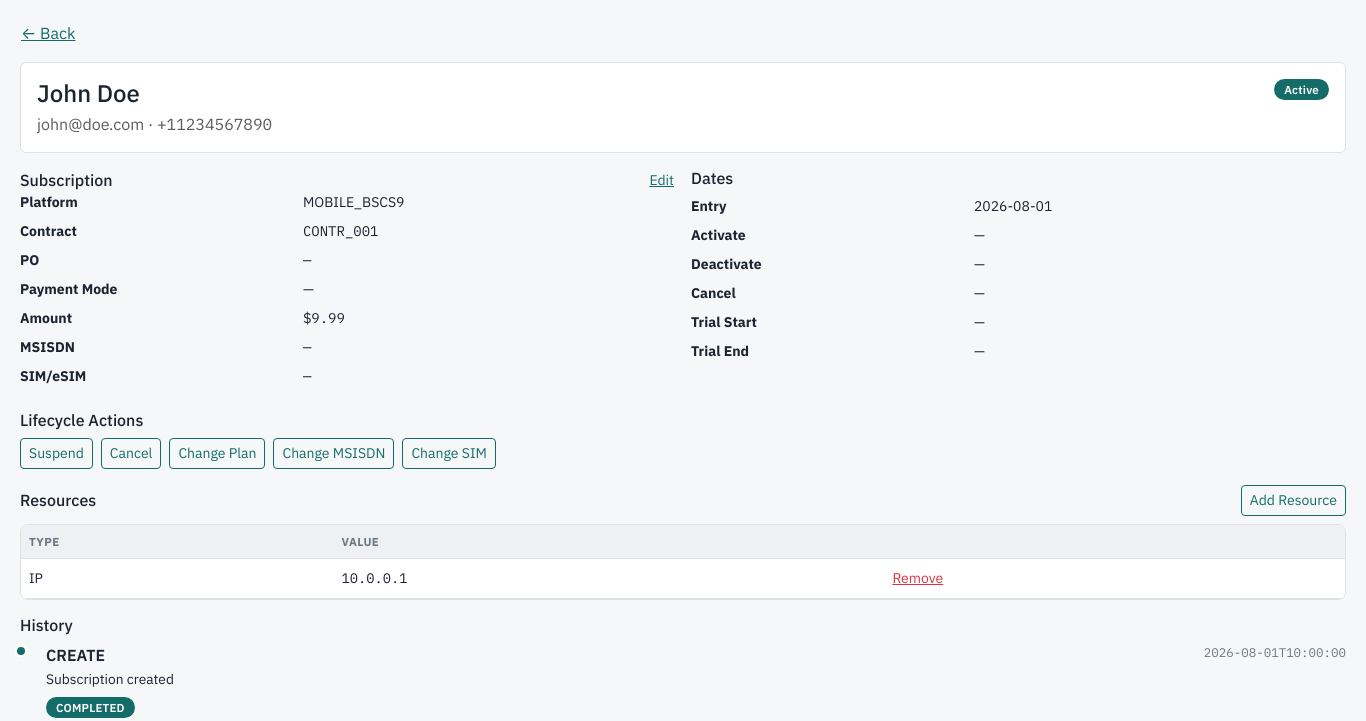
Test case: a rejected action shows its error without changing the displayed data
This screenshot has width=1366, height=721.
expect the heading "John Doe" is shown: met, box left=37, top=77, right=140, bottom=109
Click the button "Change MSISDN". click: (334, 454)
box: left=274, top=438, right=394, bottom=469
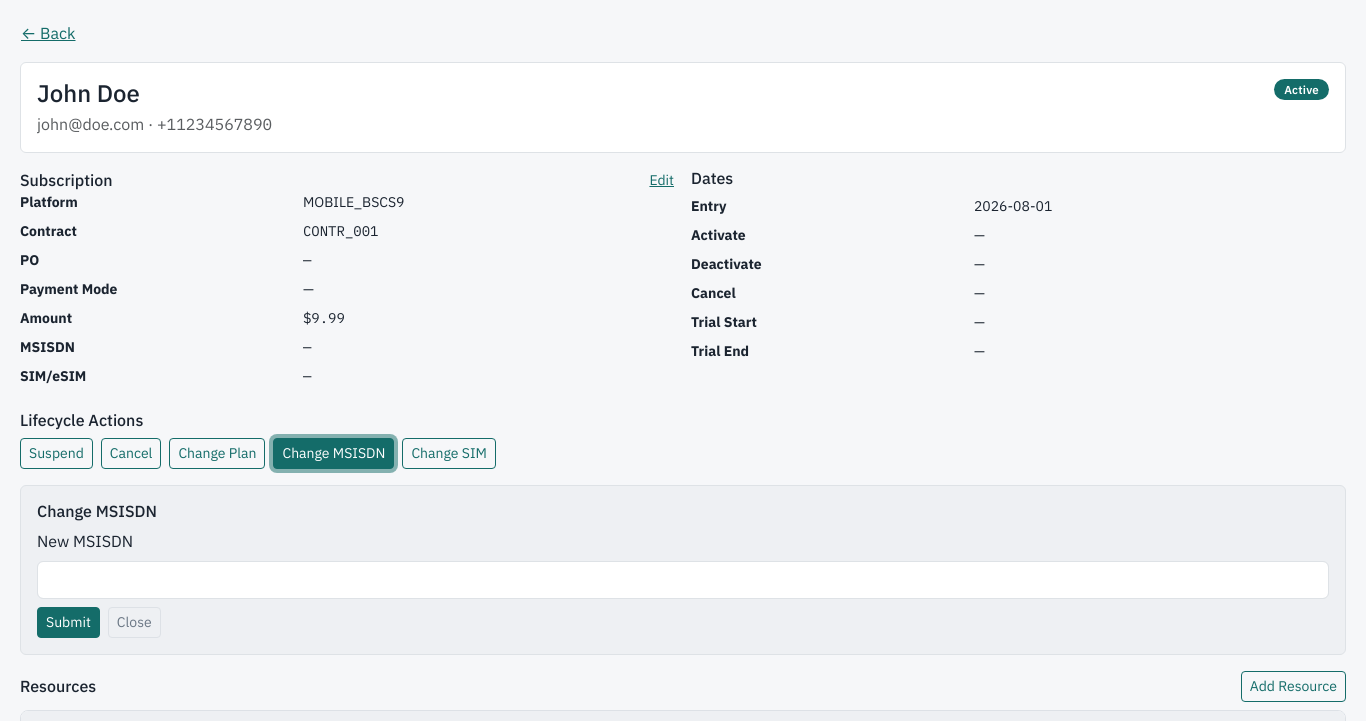
Type "not-a-number" into the field labelled "New MSISDN". click: (683, 580)
box: left=37, top=561, right=1329, bottom=599
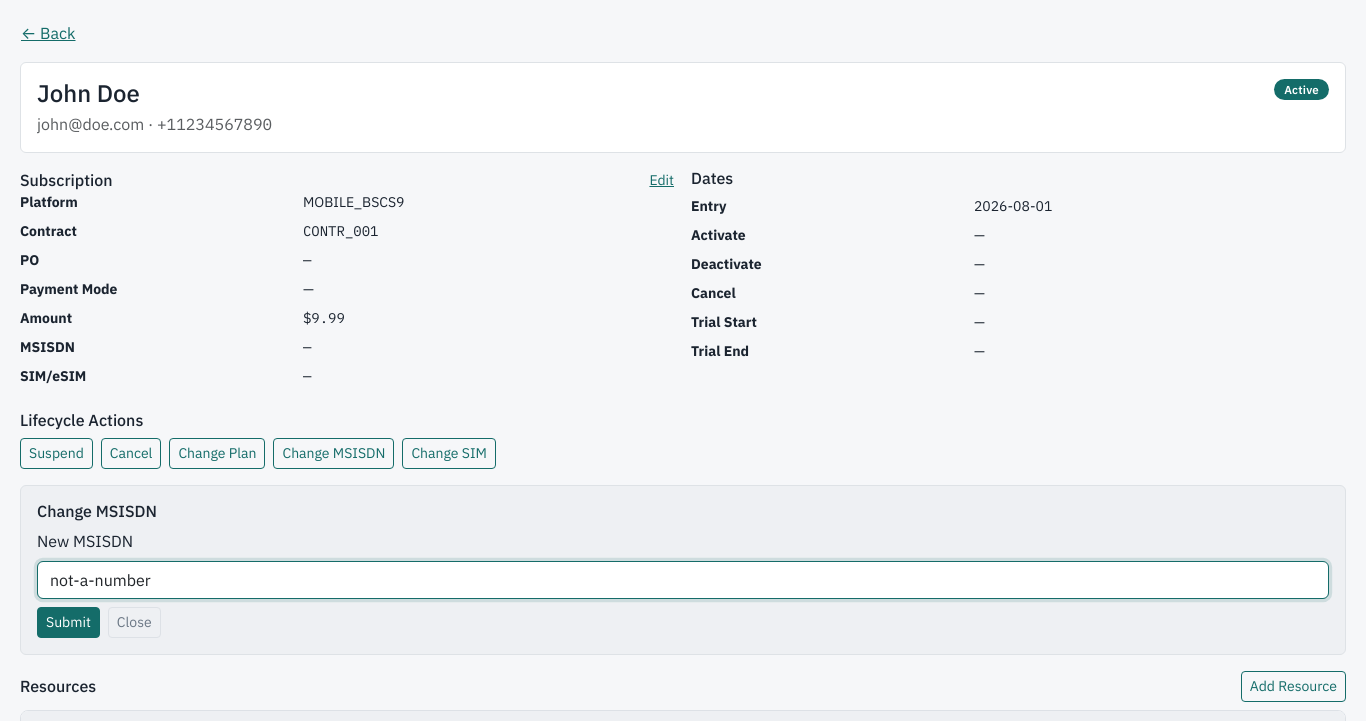
Click the button "Submit". click: (68, 623)
box: left=37, top=607, right=100, bottom=638
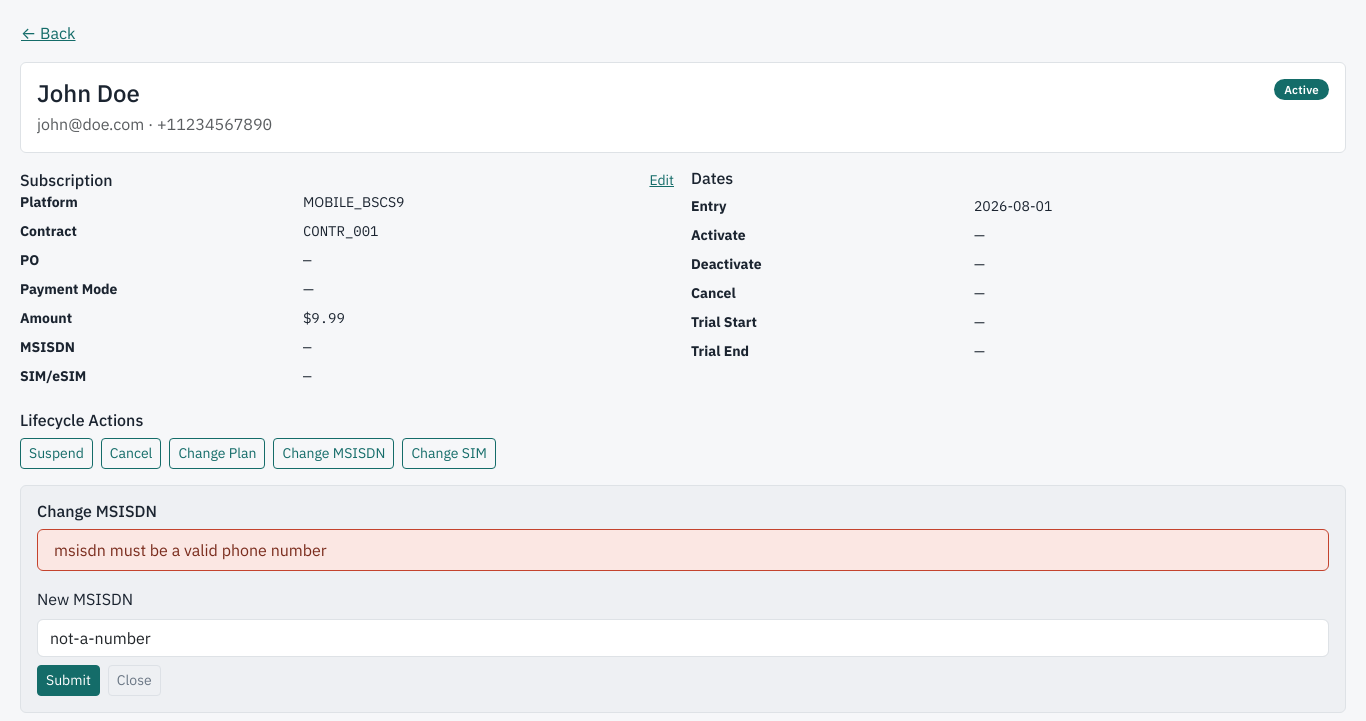
expect the text "Active" is shown: met, box left=1274, top=79, right=1329, bottom=100
expect the text "msisdn must be a valid phone number" is shown: met, box left=37, top=529, right=1329, bottom=571
